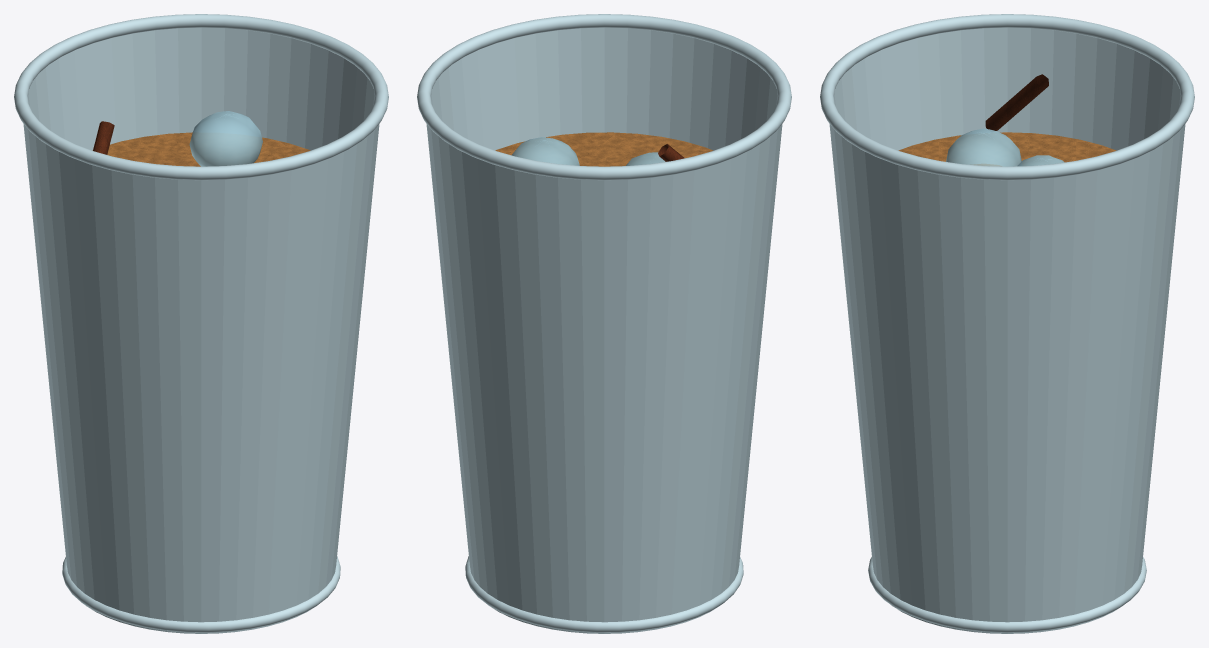
File: masato.glb
3 renders of one model, left to right at view 1: azimuth 30°, elevation 25°; view 2: azimuth 150°, elevation 25°; view 3: azimuth 270°, elevation 25°, orthographic.
Visible parts, largest first — view 1: glass, ice, masato; view 2: glass, masato, ice; view 3: glass, masato, ice, cinnamon.
Part boxes in pixels (x1,y1,x2,y2): glass: [14, 14, 388, 633]; ice: [189, 111, 262, 166]; masato: [92, 132, 310, 166]; glass: [417, 14, 791, 633]; masato: [495, 132, 713, 166]; ice: [512, 137, 665, 165]; glass: [820, 14, 1194, 633]; masato: [898, 132, 1116, 165]; ice: [946, 128, 1064, 166]; cinnamon: [985, 74, 1048, 130].
Size of the model in its own units: 0.191 by 0.2735 by 0.191.
Materials: 4 (4 with a texture image).
